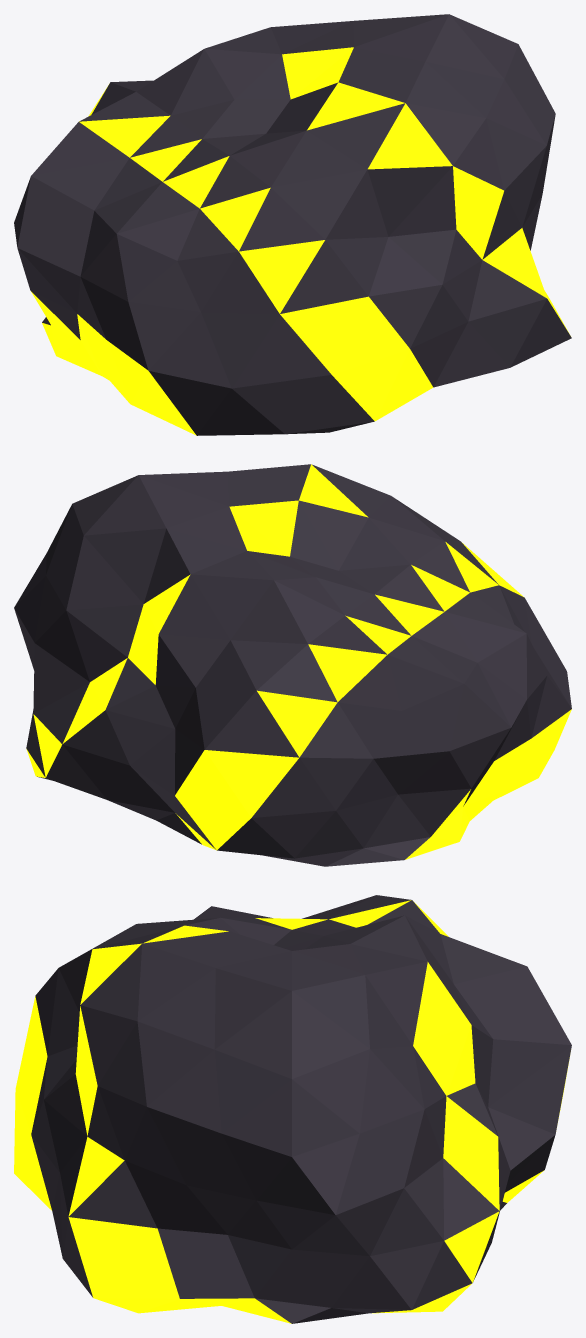
The model's file is W4_LavaRock.fbx.
The picture shows the model from 3 angles, top to bottom: view 1: azimuth 30°, elevation 25°; view 2: azimuth 150°, elevation 25°; view 3: azimuth 270°, elevation 25°; orthographic projection. The views are drawn at different scales.
Visible parts, largest first — view 1: W4_LavaRock; view 2: W4_LavaRock; view 3: W4_LavaRock.
Boxes of the visible parts, box(x1,y1,x2,y2) form: W4_LavaRock: box(14, 14, 571, 435); W4_LavaRock: box(14, 464, 571, 866); W4_LavaRock: box(14, 895, 571, 1323).
Bounding box in the file's own units: 3.82 × 1.94 × 3.24.
